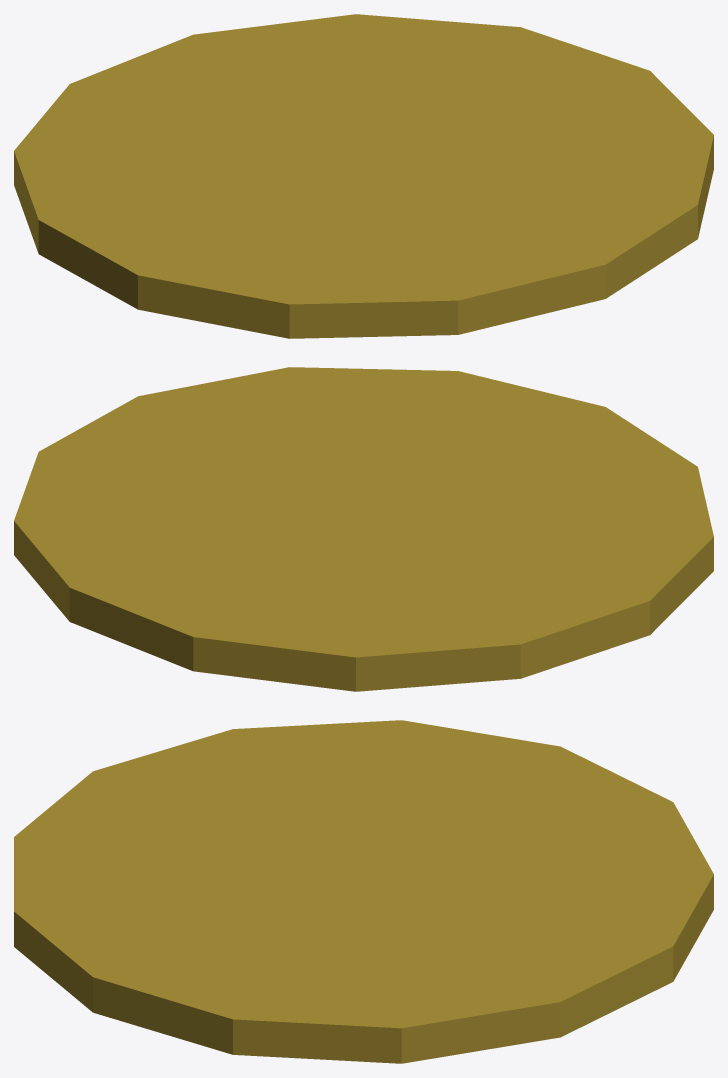
Rendered from PineappleCollider.fbx.
3 renders of one model, top to bottom at view 1: azimuth 30°, elevation 25°; view 2: azimuth 150°, elevation 25°; view 3: azimuth 270°, elevation 25°, orthographic. The views are drawn at different scales.
Visible parts, largest first — view 1: Icosphere.002; view 2: Icosphere.002; view 3: Icosphere.002.
Boxes of the visible parts, x1,y1,x2,y2 form: Icosphere.002: (14,14,713,338); Icosphere.002: (14,367,713,691); Icosphere.002: (14,720,713,1063).
Bounding box in the file's own units: 70.9 × 3.8 × 68.05.
